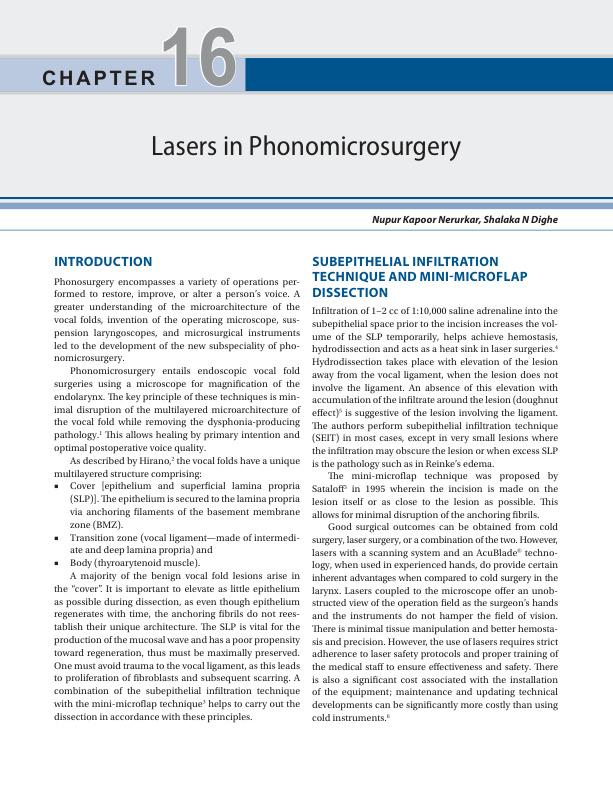chapter-heading: (150, 133, 462, 163)
list: (53, 480, 302, 568)
section-heading: (311, 255, 530, 299), (53, 255, 154, 267)
text: (311, 306, 559, 723), (53, 277, 301, 479), (53, 571, 301, 723)
